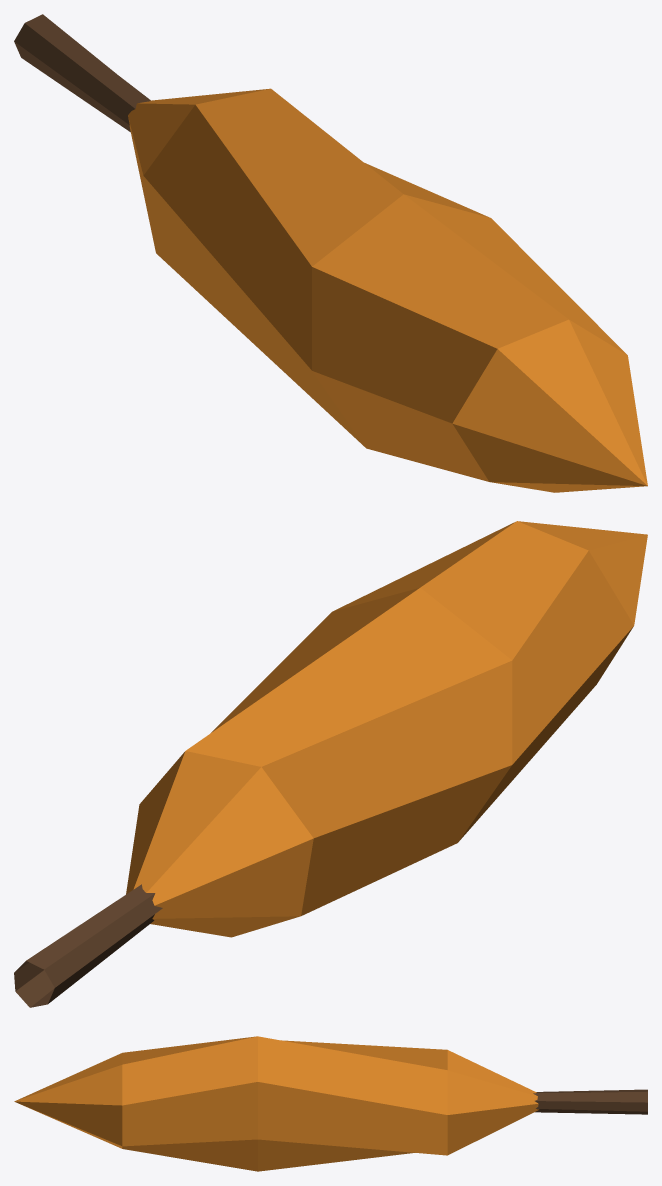
Rendered from dying_0.glb.
3 renders of one model, top to bottom at view 1: azimuth 30°, elevation 25°; view 2: azimuth 150°, elevation 25°; view 3: azimuth 270°, elevation 25°, orthographic. The views are drawn at different scales.
Parts seen in each view (by area): view 1: tree_02_dying_0; view 2: tree_02_dying_0; view 3: tree_02_dying_0.
Part boxes in pixels (left/top/right/bottom): tree_02_dying_0: left=14, top=14, right=647, bottom=492; tree_02_dying_0: left=14, top=521, right=647, bottom=1007; tree_02_dying_0: left=14, top=1036, right=647, bottom=1171.
Size of the model in its own units: 7.28 by 7.96 by 36.05.
